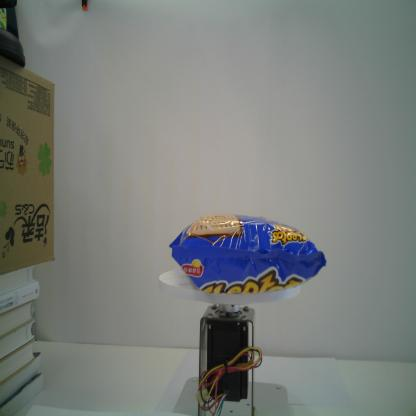Puffed Food: (168, 213, 326, 297)
